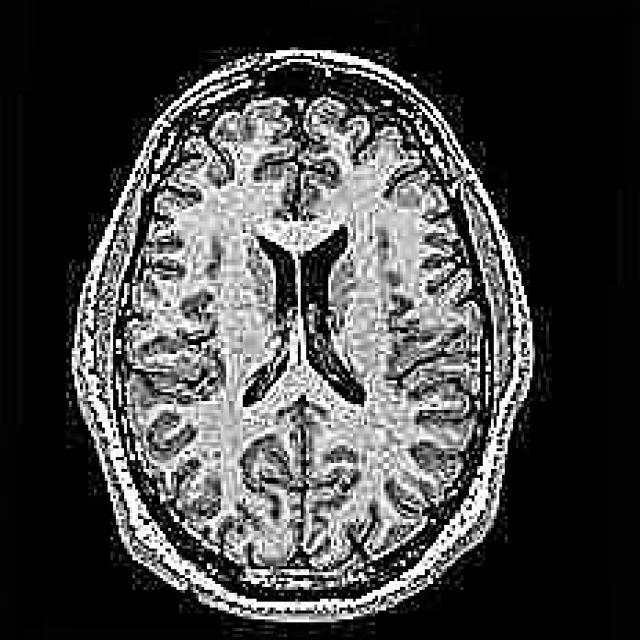notumor: (72, 50, 530, 631)
